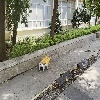fire: (41, 54, 50, 65)
